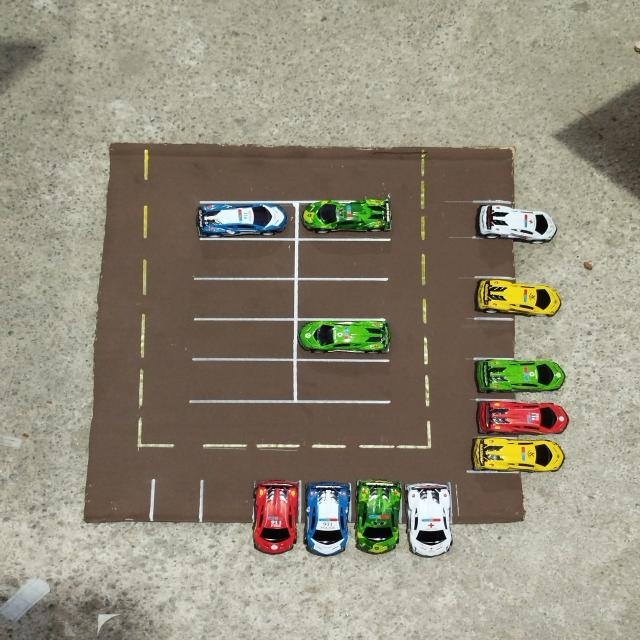libre: (186, 276, 295, 319), (184, 360, 295, 402), (186, 320, 296, 360), (294, 238, 393, 280), (296, 361, 392, 403), (472, 316, 562, 359), (297, 278, 391, 319), (191, 240, 295, 277), (86, 478, 156, 530), (468, 237, 566, 274), (203, 478, 251, 552), (153, 477, 201, 536)
no_estacionarse: (454, 474, 530, 527)
ocupado: (405, 479, 457, 562), (300, 480, 352, 562), (295, 318, 394, 360), (191, 200, 294, 240), (470, 276, 563, 318), (356, 477, 404, 557), (295, 200, 390, 239), (468, 201, 568, 238), (252, 478, 299, 554), (470, 358, 569, 394), (474, 433, 566, 471), (471, 399, 568, 435)
